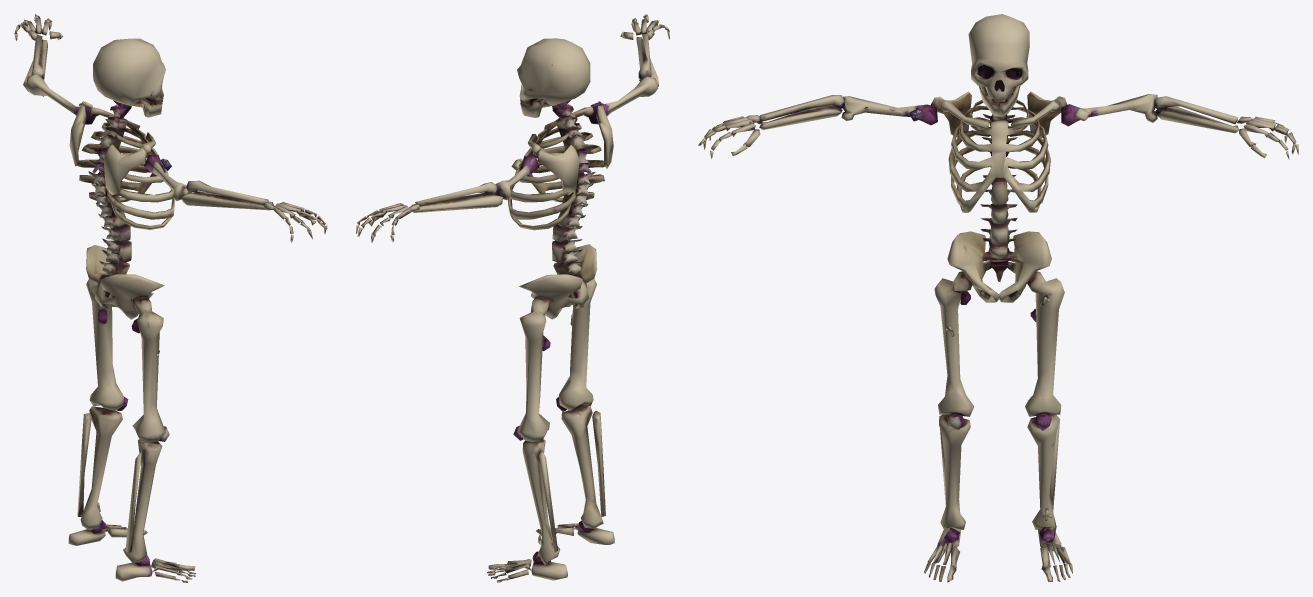
The model's file is skeleton.glb.
3 views of the same model, side by side, from view 1: azimuth 30°, elevation 25°; view 2: azimuth 150°, elevation 25°; view 3: azimuth 270°, elevation 25° (orthographic). The views are drawn at different scales.
Visible parts, largest first — view 1: tripo_node_d7d55391-7d88-4cb6-8906-43c5c809e751; view 2: tripo_node_d7d55391-7d88-4cb6-8906-43c5c809e751; view 3: tripo_node_d7d55391-7d88-4cb6-8906-43c5c809e751.
Boxes of the visible parts, box(x1,y1,x2,y2) form: tripo_node_d7d55391-7d88-4cb6-8906-43c5c809e751: box(14, 14, 327, 582); tripo_node_d7d55391-7d88-4cb6-8906-43c5c809e751: box(356, 14, 669, 582); tripo_node_d7d55391-7d88-4cb6-8906-43c5c809e751: box(698, 14, 1298, 582).
Size of the model in its own units: 0.2012 by 0.998 by 0.998.
Materials: 1 (1 with a texture image).
